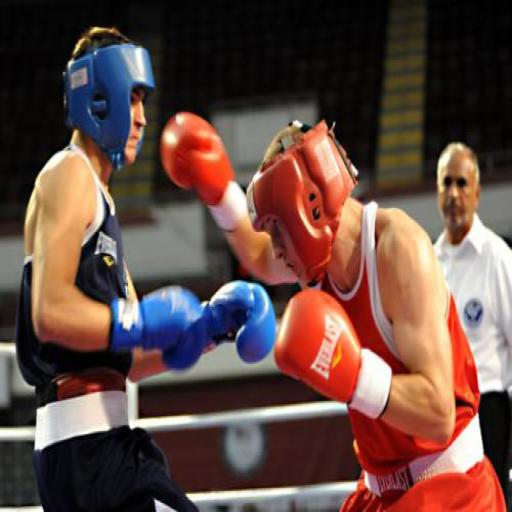boxing: (159, 110, 511, 510), (14, 24, 276, 510)
